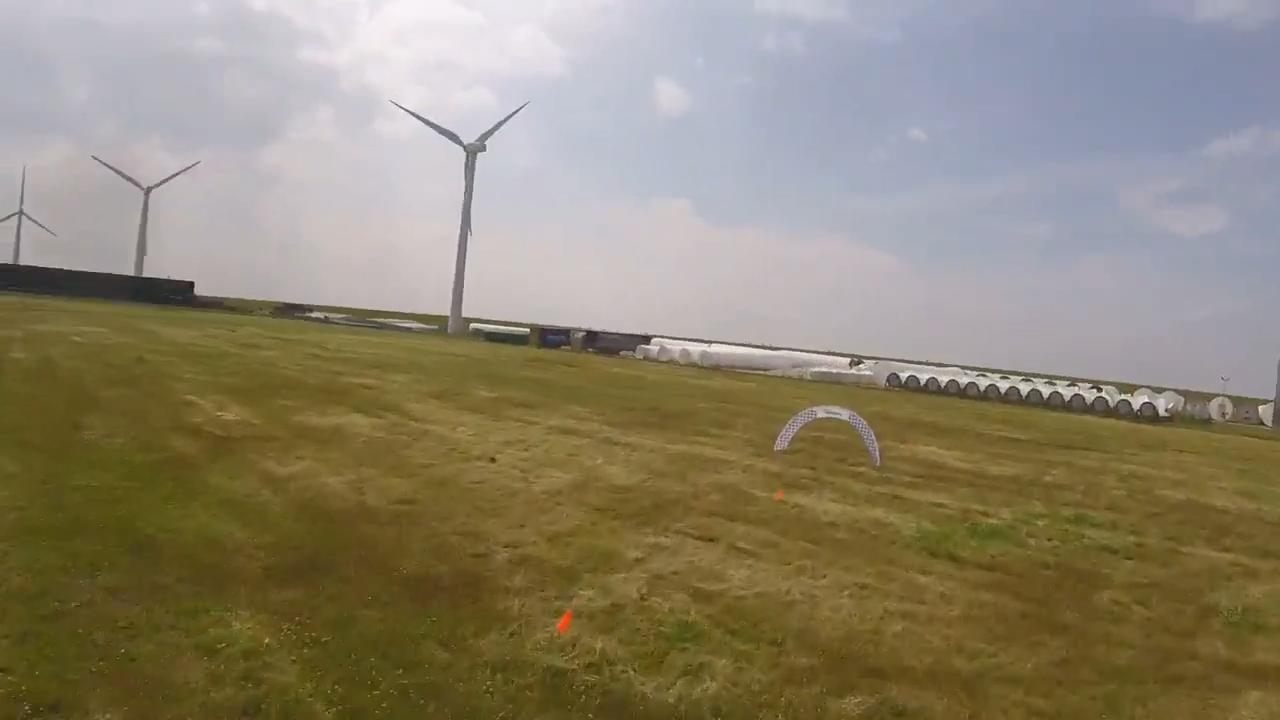gate: (772, 404, 883, 468)
